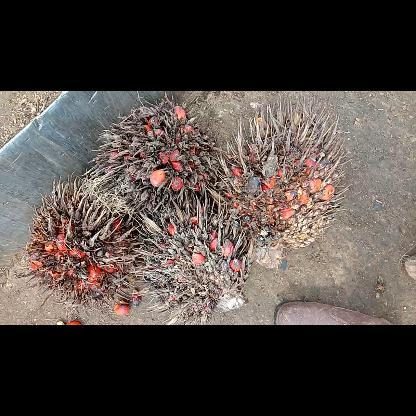Terlalu masak: (207, 96, 356, 272), (82, 97, 228, 227), (20, 166, 150, 312), (129, 186, 257, 324)
